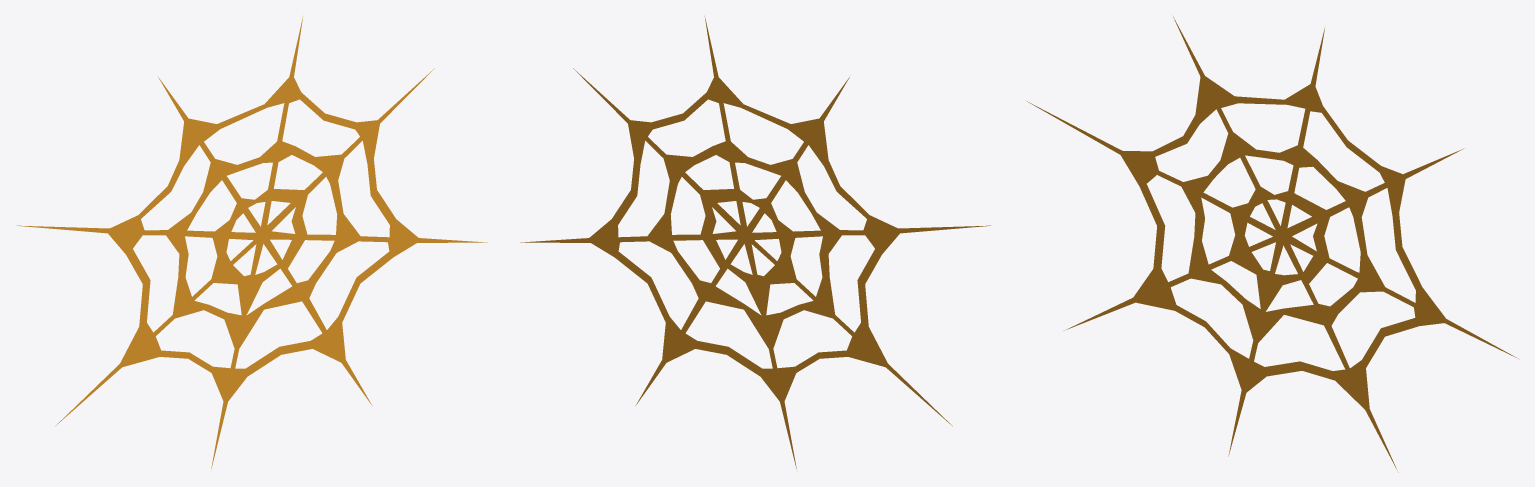
The model's file is SM_Spiderweb_B.fbx.
3 views of the same model, side by side, from view 1: azimuth 30°, elevation 25°; view 2: azimuth 150°, elevation 25°; view 3: azimuth 330°, elevation 25° (orthographic). The views are drawn at different scales.
Parts seen in each view (by area): view 1: SM_Spiderweb_B; view 2: SM_Spiderweb_B; view 3: SM_Spiderweb_B.
Boxes of the visible parts, x1=… form: SM_Spiderweb_B: x1=17, y1=16, x2=487, y2=468; SM_Spiderweb_B: x1=520, y1=16, x2=990, y2=468; SM_Spiderweb_B: x1=1025, y1=16, x2=1519, y2=472.
Bounding box in the file's own units: 1.3 × 1.14 × 6.78e-07.
